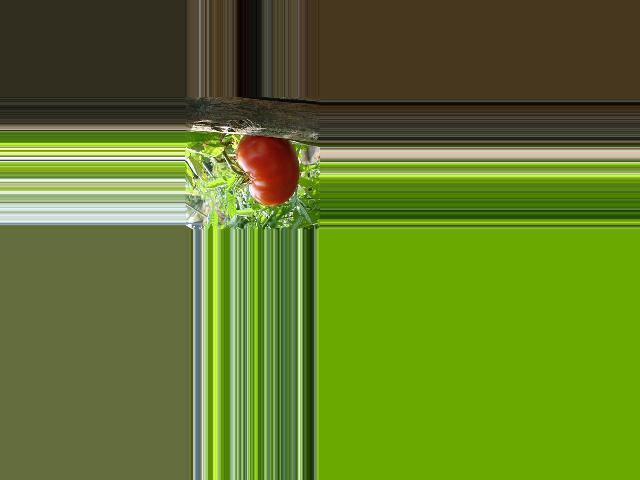tomato: (235, 134, 298, 206)
